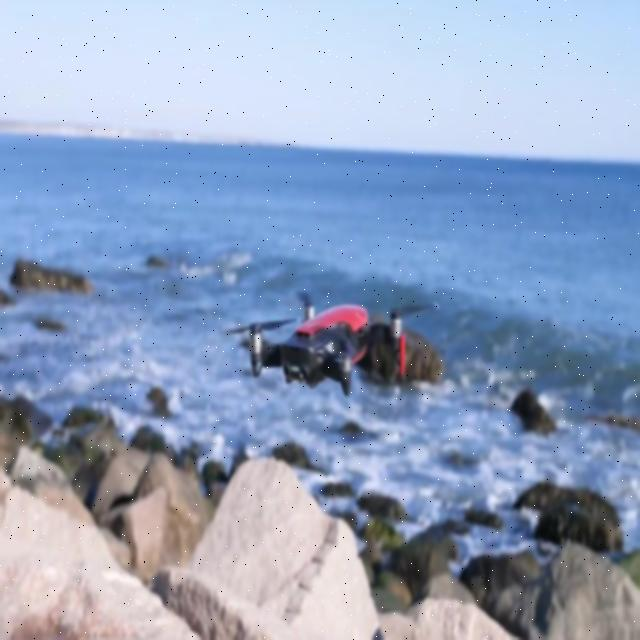UAV: (226, 289, 440, 397)
